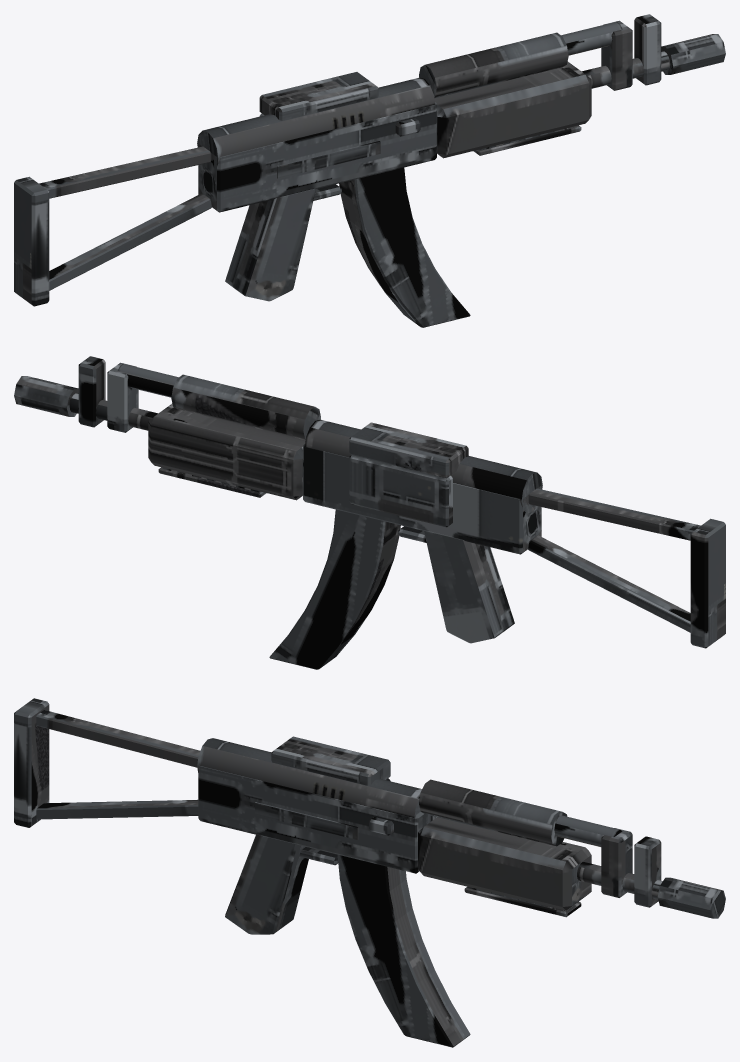
3 renders of one model, top to bottom at view 1: azimuth 30°, elevation 25°; view 2: azimuth 150°, elevation 25°; view 3: azimuth 330°, elevation 25°, orthographic.
Visible parts, largest first — view 1: AT_AK101; view 2: AT_AK101; view 3: AT_AK101.
Boxes of the visible parts, x1,y1,x2,y2 form: AT_AK101: (14,14,725,327); AT_AK101: (14,356,725,669); AT_AK101: (14,698,725,1047).
Size of the model in its own units: 0.474 by 0.164 by 0.039.
1 material, 1 textured.
